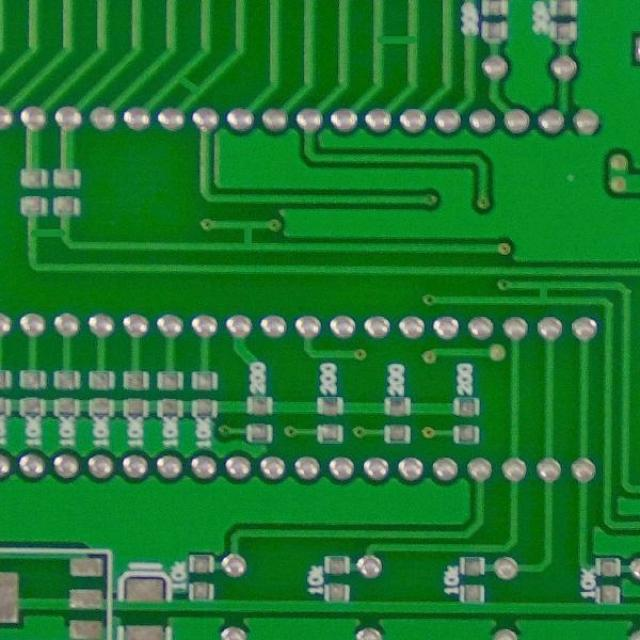short: (15, 220, 86, 247), (370, 24, 420, 56), (166, 72, 205, 100), (527, 276, 559, 308), (232, 220, 258, 250)
